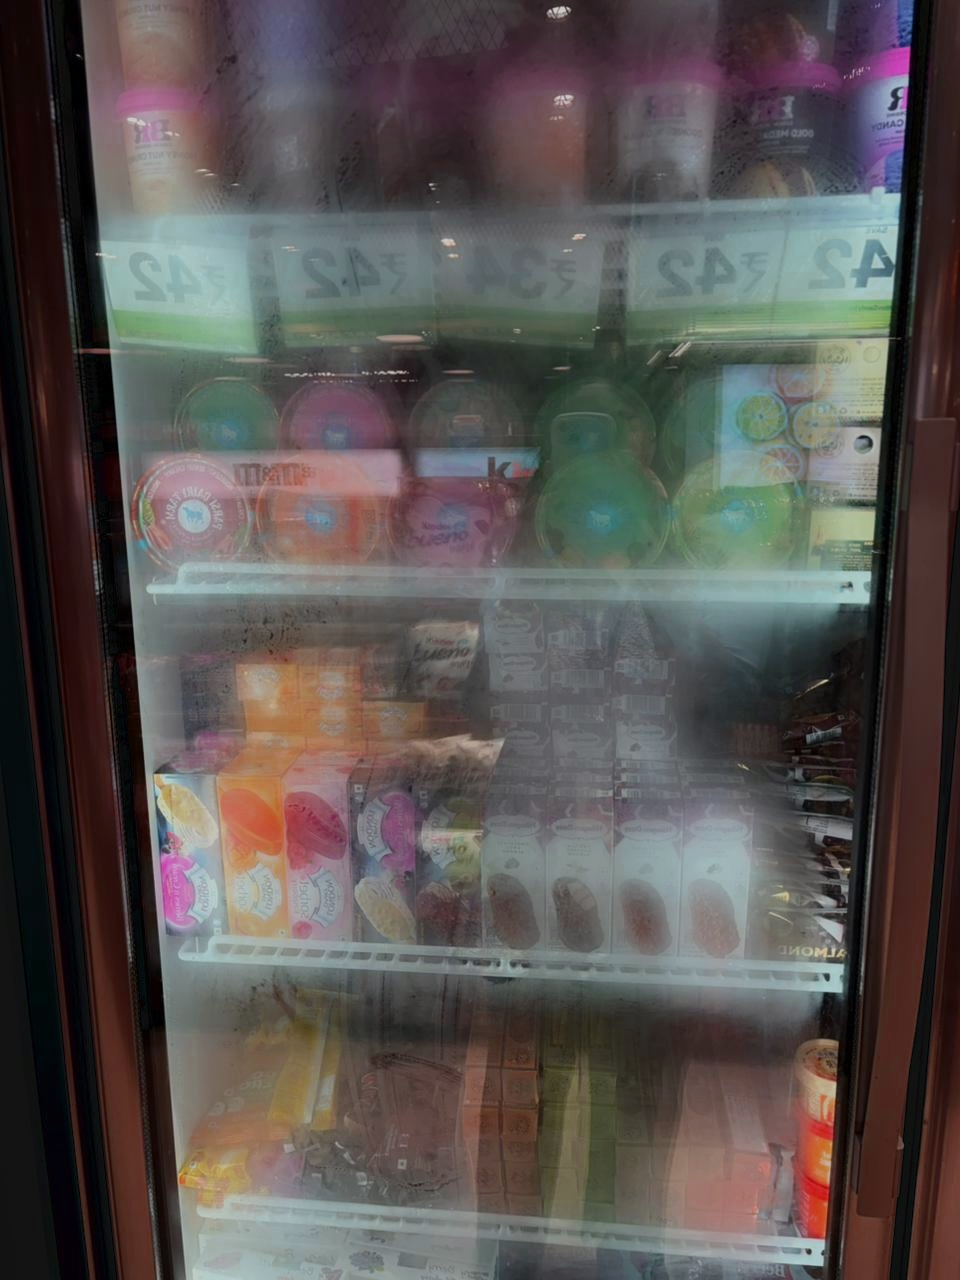Haagen-Dazs IceCream Bars: (542, 794, 616, 967), (613, 797, 685, 973), (677, 803, 759, 953), (478, 794, 551, 962)
